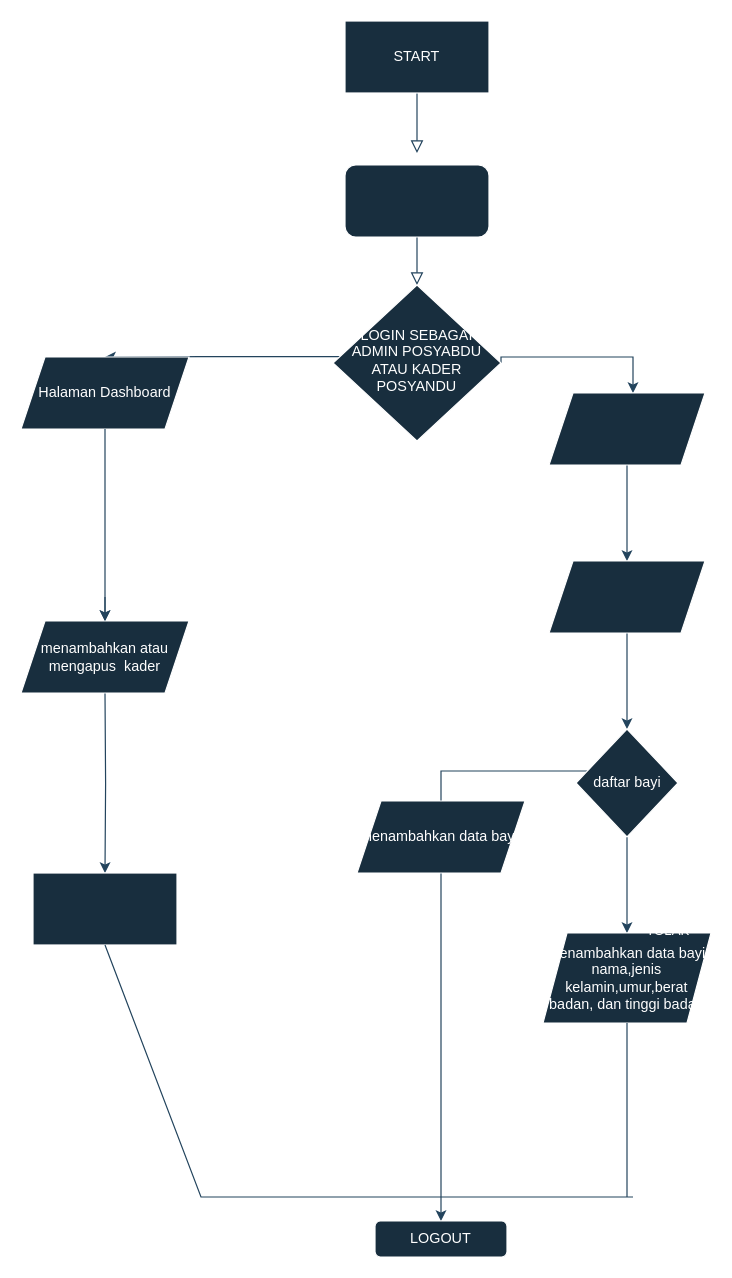
The diagram is 732 pixels wide and 1278 high, and some of its shapes have lost their labels. The box of each missing label's shape, as (x1, y1, x2, y2) in pixels:
Halaman kader: (548, 392, 705, 465)
kelola data kader: (548, 560, 705, 633)
kirim pengajuan: (32, 872, 177, 945)
LOGIN SEBAGAI ADMIN ATAU POSYANDU: (344, 164, 489, 237)
